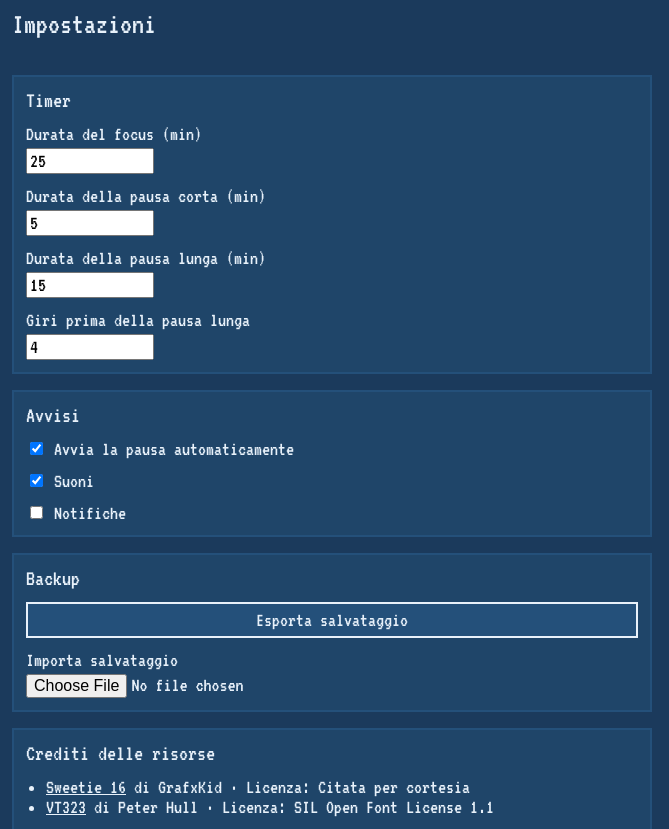
SettingsScreen › rejected notification permission request is treated as denied
Click the checkbox labelled "Notifiche": [36, 513] box [30,506,43,519]
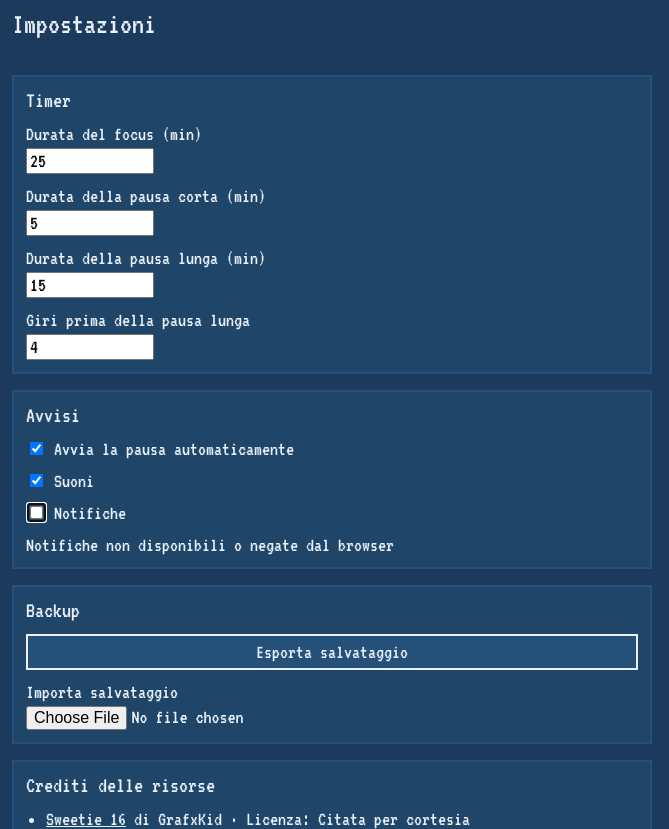
Expected: the text "Notifiche non disponibili o negate dal browser" is shown, [26,535,394,555]
